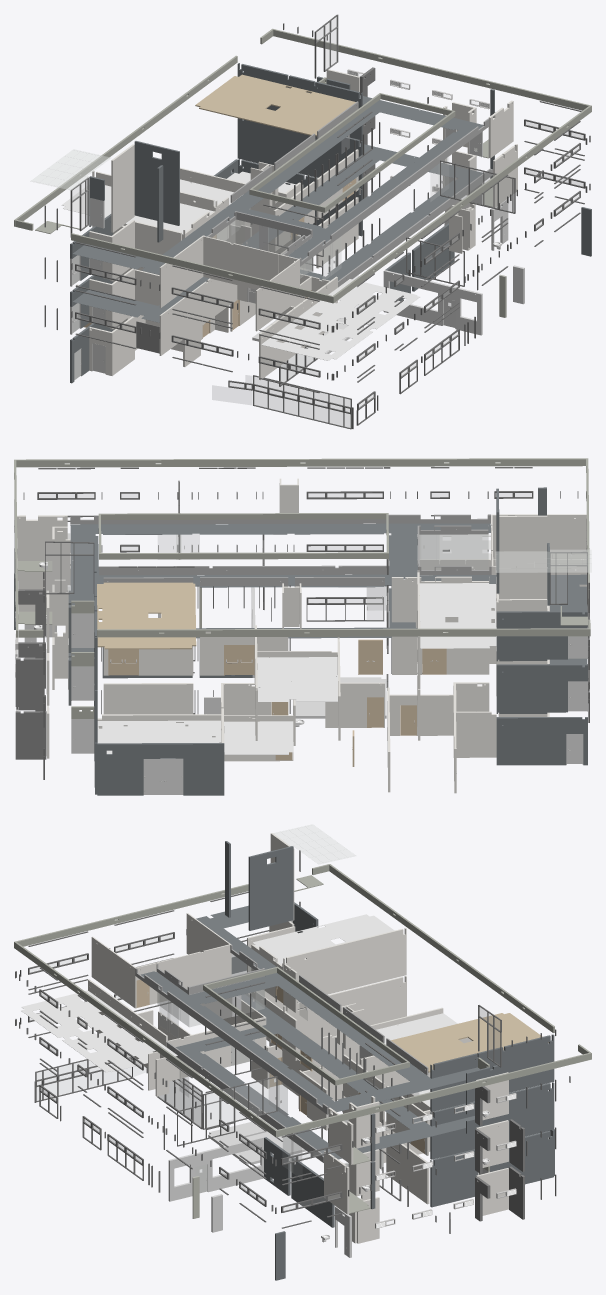
File: pt102-l1t1-1542-102-con-ed-arq-mo-0001-r01.glb
3 renders of one model, top to bottom at view 1: azimuth 30°, elevation 25°; view 2: azimuth 150°, elevation 25°; view 3: azimuth 270°, elevation 25°, orthographic. The views are drawn at different scales.
Parts seen in each view (by area): view 1: 2PlgUPA4572Q$JlGMJ13ud, 2PlgUPA4572Q$JlGMJ13uH, 2PlgUPA4572Q$JlGMJ13yQ, 2PlgUPA4572Q$JlGMJ13ak, 2PlgUPA4572Q$JlGMJ15ZP, 2PlgUPA4572Q$JlGMJ15XW, 2PlgUPA4572Q$JlGMJ13pS, 2PlgUPA4572Q$JlGMJ15l3, 2PlgUPA4572Q$JlGMJ15X_, 2PlgUPA4572Q$JlGMJ10QO, 2PlgUPA4572Q$JlGMJ15Xx, 2PlgUPA4572Q$JlGMJ15Xl (+32 smaller); view 2: 2PlgUPA4572Q$JlGMJ13ud, 2PlgUPA4572Q$JlGMJ13ak, 2PlgUPA4572Q$JlGMJ1360, 2PlgUPA4572Q$JlGMJ15Xx, 2PlgUPA4572Q$JlGMJ10Q5, 2PlgUPA4572Q$JlGMJ15Xu, 2PlgUPA4572Q$JlGMJ13nr, 2PlgUPA4572Q$JlGMJ15ZW, 2PlgUPA4572Q$JlGMJ15Xa, 2PlgUPA4572Q$JlGMJ13dg, 2PlgUPA4572Q$JlGMJ15Zc, 2PlgUPA4572Q$JlGMJ12Ol (+64 smaller); view 3: 2PlgUPA4572Q$JlGMJ13ud, 2PlgUPA4572Q$JlGMJ13uH, 2PlgUPA4572Q$JlGMJ13pO, 2PlgUPA4572Q$JlGMJ13yQ, 2PlgUPA4572Q$JlGMJ13ak, 2PlgUPA4572Q$JlGMJ15ZY, 2PlgUPA4572Q$JlGMJ10Vb, 2PlgUPA4572Q$JlGMJ15ZP, 2PlgUPA4572Q$JlGMJ15XW, 2PlgUPA4572Q$JlGMJ13pR, 2PlgUPA4572Q$JlGMJ10Q5, 2PlgUPA4572Q$JlGMJ10QO (+31 smaller).
Boxes of the visible parts, left/top/right/bottom form: 2PlgUPA4572Q$JlGMJ13ud: left=73, top=95, right=483, bottom=274; 2PlgUPA4572Q$JlGMJ13uH: left=73, top=143, right=483, bottom=322; 2PlgUPA4572Q$JlGMJ13yQ: left=261, top=279, right=419, bottom=360; 2PlgUPA4572Q$JlGMJ13ak: left=195, top=74, right=355, bottom=136; 2PlgUPA4572Q$JlGMJ15ZP: left=237, top=118, right=362, bottom=188; 2PlgUPA4572Q$JlGMJ15XW: left=134, top=141, right=179, bottom=225; 2PlgUPA4572Q$JlGMJ13pS: left=159, top=278, right=237, bottom=355; 2PlgUPA4572Q$JlGMJ15l3: left=202, top=235, right=278, bottom=289; 2PlgUPA4572Q$JlGMJ15X_: left=271, top=28, right=589, bottom=110; 2PlgUPA4572Q$JlGMJ10QO: left=383, top=270, right=482, bottom=335; 2PlgUPA4572Q$JlGMJ15Xx: left=333, top=105, right=591, bottom=301; 2PlgUPA4572Q$JlGMJ15Xl: left=71, top=233, right=334, bottom=303; 2PlgUPA4572Q$JlGMJ13ud: left=70, top=523, right=587, bottom=613; 2PlgUPA4572Q$JlGMJ13ak: left=97, top=582, right=196, bottom=649; 2PlgUPA4572Q$JlGMJ1360: left=97, top=743, right=224, bottom=795; 2PlgUPA4572Q$JlGMJ15Xx: left=14, top=458, right=585, bottom=467; 2PlgUPA4572Q$JlGMJ10Q5: left=419, top=583, right=496, bottom=648; 2PlgUPA4572Q$JlGMJ15Xu: left=97, top=628, right=590, bottom=637; 2PlgUPA4572Q$JlGMJ13nr: left=496, top=717, right=587, bottom=765; 2PlgUPA4572Q$JlGMJ15ZW: left=496, top=664, right=587, bottom=713; 2PlgUPA4572Q$JlGMJ15Xa: left=499, top=515, right=547, bottom=595; 2PlgUPA4572Q$JlGMJ13dg: left=257, top=657, right=337, bottom=701; 2PlgUPA4572Q$JlGMJ15Zc: left=496, top=611, right=587, bottom=661; 2PlgUPA4572Q$JlGMJ12Ol: left=103, top=683, right=193, bottom=714; 2PlgUPA4572Q$JlGMJ13ud: left=141, top=905, right=479, bottom=1112; 2PlgUPA4572Q$JlGMJ13uH: left=176, top=956, right=474, bottom=1159; 2PlgUPA4572Q$JlGMJ13pO: left=283, top=928, right=406, bottom=1005; 2PlgUPA4572Q$JlGMJ13yQ: left=21, top=990, right=177, bottom=1072; 2PlgUPA4572Q$JlGMJ13ak: left=391, top=1013, right=548, bottom=1072; 2PlgUPA4572Q$JlGMJ15ZY: left=430, top=1034, right=554, bottom=1111; 2PlgUPA4572Q$JlGMJ10Vb: left=430, top=1130, right=553, bottom=1207; 2PlgUPA4572Q$JlGMJ15ZP: left=430, top=1082, right=554, bottom=1159; 2PlgUPA4572Q$JlGMJ15XW: left=248, top=846, right=293, bottom=930; 2PlgUPA4572Q$JlGMJ13pR: left=283, top=976, right=406, bottom=1051; 2PlgUPA4572Q$JlGMJ10Q5: left=253, top=914, right=394, bottom=964; 2PlgUPA4572Q$JlGMJ10QO: left=168, top=1136, right=265, bottom=1201.
Size of the model in its own units: 45.66 by 17.41 by 41.69.
